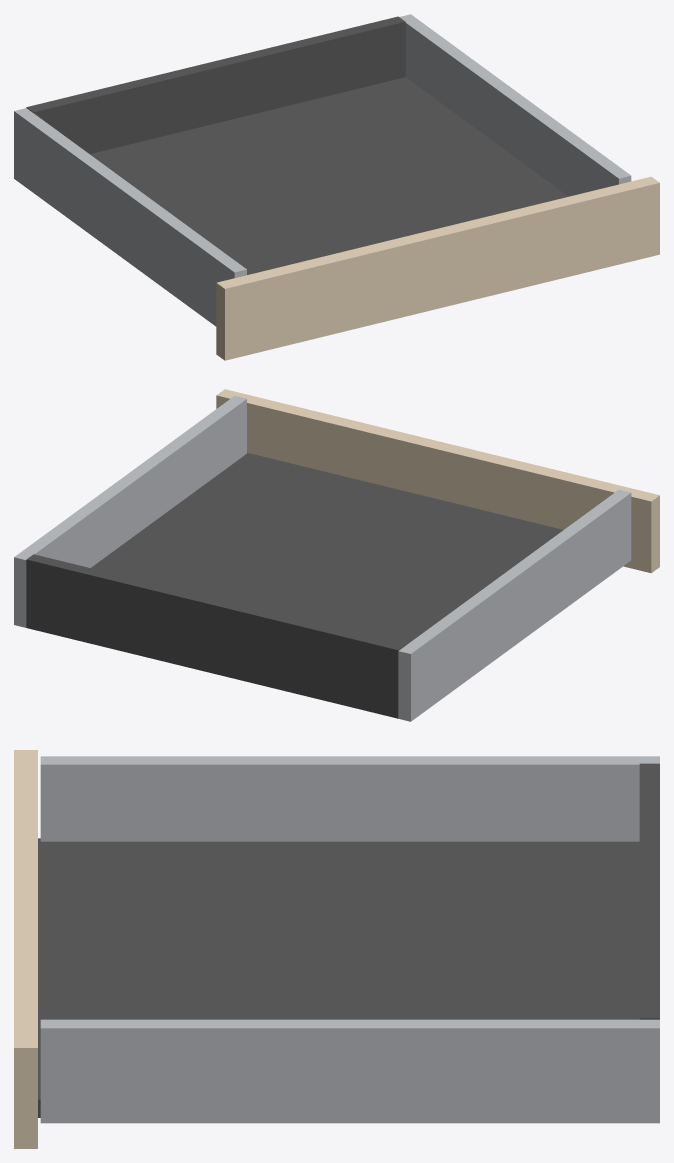
The model's file is M5_innv1.glb.
The picture shows the model from 3 angles, top to bottom: view 1: azimuth 30°, elevation 25°; view 2: azimuth 150°, elevation 25°; view 3: azimuth 270°, elevation 25°; orthographic projection. The views are drawn at different scales.
Bounding box in the file's own units: 558 × 95 × 511.
